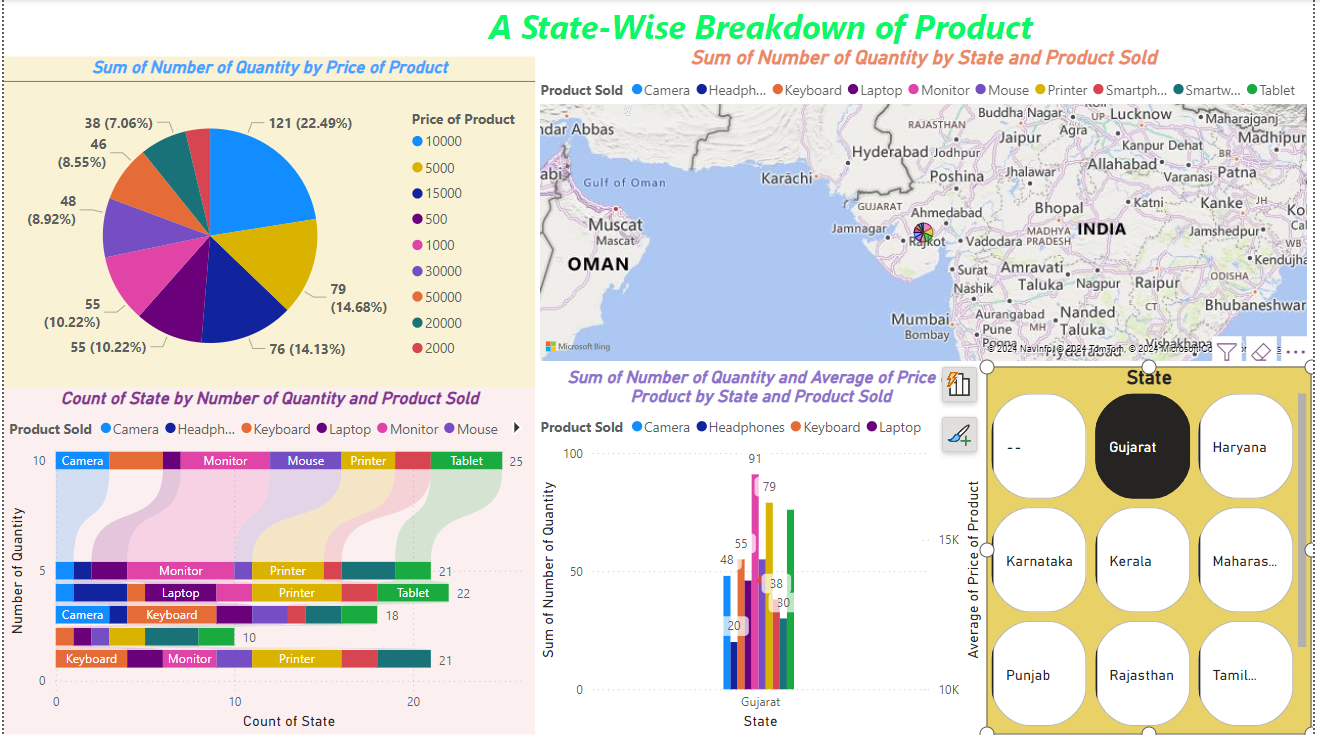

Layout of this report page (visuals, bound fields, positions):
{"tool":"powerbi","page":{"name":"Page 1","canvas":[1280,720],"ordinal":0},"visuals":[{"type":"textbox","box":[460.1,0,560.7,55.9],"z":0},{"type":"barChart","fields":{"Y":["CountNonNull(State sales Prediction.State)"],"Category":["State sales Prediction.Number of Quantity"],"Series":["State sales Prediction.Product Sold"]},"box":[0,380,519.7,339],"z":1000},{"type":"pieChart","fields":{"Category":["State sales Prediction.Price of Product"],"Y":["Sum(State sales Prediction.Number of Quantity)"]},"box":[0,55.9,519.7,324.1],"z":2000},{"type":"lineClusteredColumnComboChart","fields":{"Category":["State sales Prediction.State"],"Y2":["Avg(State sales Prediction.Price of Product)"],"Series":["State sales Prediction.Product Sold"],"Y":["Sum(State sales Prediction.Number of Quantity)"]},"box":[519.7,359.5,441.5,359.5],"z":3000},{"type":"map","fields":{"Category":["State sales Prediction.State"],"Size":["Sum(State sales Prediction.Number of Quantity)"],"Series":["State sales Prediction.Product Sold"]},"box":[519.7,46.6,760,312.9],"z":4000},{"type":"advancedSlicerVisual","fields":{"Values":["State sales Prediction.State"]},"box":[961.1,359.5,318.5,359.5],"z":5000}]}

Visuals, with their boxes in screenshot pixels (x1, y1, x2, y2), scaled from the page's 1280x720 canvas onto the 1320x735 screenshot:
textbox: Rect(474, 0, 1053, 57)
barChart - CountNonNull(State sales Prediction.State) x State sales Prediction.Number of Quantity: Rect(0, 388, 536, 734)
pieChart - State sales Prediction.Price of Product x Sum(State sales Prediction.Number of Quantity): Rect(0, 57, 536, 388)
lineClusteredColumnComboChart - State sales Prediction.State x Avg(State sales Prediction.Price of Product): Rect(536, 367, 991, 734)
map - State sales Prediction.State x Sum(State sales Prediction.Number of Quantity): Rect(536, 48, 1319, 367)
advancedSlicerVisual - State sales Prediction.State: Rect(991, 367, 1319, 734)
